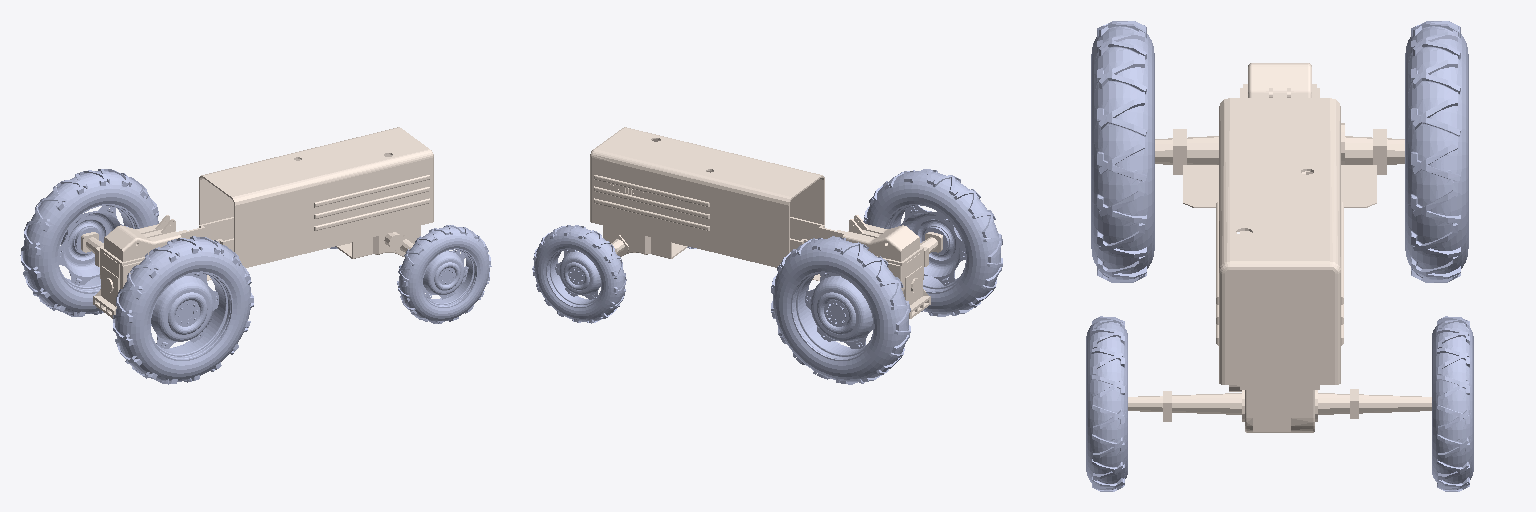
URDF robot description (tractor):
<?xml version="1.0" encoding="utf-8"?>
<!-- This URDF was automatically created by SolidWorks to URDF Exporter! Originally created by [author] ([email redacted]) 
     Commit Version: 1.6.0-4-g7f85cfe  Build Version: 1.6.7995.38578
     For more information, please see http://wiki.ros.org/sw_urdf_exporter -->
<robot
  name="tractor">
  <link
    name="base_link">
    <inertial>
      <origin
        xyz="-0.275503262308017 0.1134168249371 0.00114102748997771"
        rpy="0 0 0" />
      <mass
        value="3290" />
      <inertia
        ixx="1181.50205313415"
        ixy="62.8690140923481"
        ixz="-8.30908405189068"
        iyy="4421.07152572309"
        iyz="-0.511875110335584"
        izz="3804.07165064492" />
    </inertial>
    <visual>
      <origin
        xyz="0 0 0"
        rpy="0 0 0" />
      <geometry>
        <mesh
          filename="package://tractor/meshes/base_link.STL" />
      </geometry>
      <material
        name="">
        <color
          rgba="1 0.949019607843137 0.909803921568627 1" />
      </material>
    </visual>
    <collision>
      <origin
        xyz="0 0 0"
        rpy="0 0 0" />
      <geometry>
        <mesh
          filename="package://tractor/meshes/base_link.STL" />
      </geometry>
    </collision>
  </link>
  <link
    name="FRONT_L">
    <inertial>
      <origin
        xyz="-0.275503262308017 0.1134168249371 0.00114102748997771"
        rpy="0 0 0" />
      <mass
        value="3290" />
      <inertia
        ixx="1181.50205313415"
        ixy="62.8690140923481"
        ixz="-8.30908405189068"
        iyy="4421.07152572309"
        iyz="-0.511875110335584"
        izz="3804.07165064492" />
    </inertial>
    <visual>
      <origin
        xyz="0 0 0"
        rpy="0 0 0" />
      <geometry>
        <mesh
          filename="package://tractor/meshes/FRONT_L.STL" />
      </geometry>
      <material
        name="">
        <color
          rgba="0.792156862745098 0.819607843137255 0.933333333333333 1" />
      </material>
    </visual>
    <collision>
      <origin
        xyz="0 0 0"
        rpy="0 0 0" />
      <geometry>
        <mesh
          filename="package://tractor/meshes/FRONT_L.STL" />
      </geometry>
    </collision>
  </link>
  <joint
    name="Front1"
    type="continuous">
    <origin
      xyz="1.6143 0.81922 -0.13999"
      rpy="-1.5708 0 0" />
    <parent
      link="base_link" />
    <child
      link="FRONT_L" />
    <axis
      xyz="0 0 -1" />
    <limit
      lower="-3.14"
      upper="3.14"
      effort="10"
      velocity="1" />
  </joint>
  <link
    name="FRONT_R">
    <inertial>
      <origin
        xyz="-0.275503262308017 0.1134168249371 0.00114102748997771"
        rpy="0 0 0" />
      <mass
        value="3290" />
      <inertia
        ixx="1181.50205313415"
        ixy="62.8690140923481"
        ixz="-8.30908405189068"
        iyy="4421.07152572309"
        iyz="-0.511875110335584"
        izz="3804.07165064492" />
    </inertial>
    <visual>
      <origin
        xyz="0 0 0"
        rpy="0 0 0" />
      <geometry>
        <mesh
          filename="package://tractor/meshes/FRONT_R.STL" />
      </geometry>
      <material
        name="">
        <color
          rgba="0.792156862745098 0.819607843137255 0.933333333333333 1" />
      </material>
    </visual>
    <collision>
      <origin
        xyz="0 0 0"
        rpy="0 0 0" />
      <geometry>
        <mesh
          filename="package://tractor/meshes/FRONT_R.STL" />
      </geometry>
    </collision>
  </link>
  <joint
    name="Front2"
    type="continuous">
    <origin
      xyz="1.6143 -0.81922 -0.13999"
      rpy="-1.5708 0 0" />
    <parent
      link="base_link" />
    <child
      link="FRONT_R" />
    <axis
      xyz="0 0 1" />
    <limit
      lower="-3.14"
      upper="3.14"
      effort="0"
      velocity="1" />
  </joint>
  <link
    name="REAR_L">
    <inertial>
      <origin
        xyz="-0.275503262308017 0.1134168249371 0.00114102748997771"
        rpy="0 0 0" />
      <mass
        value="3290" />
      <inertia
        ixx="1181.50205313415"
        ixy="62.8690140923481"
        ixz="-8.30908405189068"
        iyy="4421.07152572309"
        iyz="-0.511875110335584"
        izz="3804.07165064492" />
    </inertial>
    <visual>
      <origin
        xyz="0 0 0"
        rpy="0 0 0" />
      <geometry>
        <mesh
          filename="package://tractor/meshes/REAR_L.STL" />
      </geometry>
      <material
        name="">
        <color
          rgba="0.792156862745098 0.819607843137255 0.933333333333333 1" />
      </material>
    </visual>
    <collision>
      <origin
        xyz="0 0 0"
        rpy="0 0 0" />
      <geometry>
        <mesh
          filename="package://tractor/meshes/REAR_L.STL" />
      </geometry>
    </collision>
  </link>
  <joint
    name="Rear1"
    type="continuous">
    <origin
      xyz="-0.65 0.77 0.055"
      rpy="-1.5708 0 0" />
    <parent
      link="base_link" />
    <child
      link="REAR_L" />
    <axis
      xyz="0 0 -1" />
    <limit
      lower="-3.14"
      upper="3.14"
      effort="10"
      velocity="1" />
  </joint>
  <link
    name="REAR_R">
    <inertial>
      <origin
        xyz="-0.275503262308017 0.1134168249371 0.00114102748997771"
        rpy="0 0 0" />
      <mass
        value="3290" />
      <inertia
        ixx="1181.50205313415"
        ixy="62.8690140923481"
        ixz="-8.30908405189068"
        iyy="4421.07152572309"
        iyz="-0.511875110335584"
        izz="3804.07165064492" />
    </inertial>
    <visual>
      <origin
        xyz="0 0 0"
        rpy="0 0 0" />
      <geometry>
        <mesh
          filename="package://tractor/meshes/REAR_R.STL" />
      </geometry>
      <material
        name="">
        <color
          rgba="0.792156862745098 0.819607843137255 0.933333333333333 1" />
      </material>
    </visual>
    <collision>
      <origin
        xyz="0 0 0"
        rpy="0 0 0" />
      <geometry>
        <mesh
          filename="package://tractor/meshes/REAR_R.STL" />
      </geometry>
    </collision>
  </link>
  <joint
    name="Rear2"
    type="continuous">
    <origin
      xyz="-0.65 -0.77 0.055"
      rpy="-1.5708 0 0" />
    <parent
      link="base_link" />
    <child
      link="REAR_R" />
    <axis
      xyz="0 0 1" />
    <limit
      lower="-3.14"
      upper="3.14"
      effort="10"
      velocity="1" />
  </joint>

    <!-- Transmissions -->
  <transmission name="Rear1_trans">
    <type>transmission_interface/SimpleTransmission</type>
    <actuator name="Rear1_motor">
      <hardwareInterface>EffortJointInterface</hardwareInterface>
    </actuator>
    <joint name="Rear1">
      <hardwareInterface>EffortJointInterface</hardwareInterface>
    </joint>
  </transmission>

  <transmission name="Rear2_trans">
    <type>transmission_interface/SimpleTransmission</type>
    <actuator name="Rear2_motor">
      <hardwareInterface>EffortJointInterface</hardwareInterface>
    </actuator>
    <joint name="Rear2">
      <hardwareInterface>EffortJointInterface</hardwareInterface>
    </joint>
  </transmission>

  <gazebo>
    <plugin name="gazebo_ros_control" filename="libgazebo_ros_control.so"/>
  </gazebo>
  
</robot>

--- Render facts (derived) ---
The picture shows the robot from 3 angles, left to right: view 1: azimuth 30°, elevation 25°; view 2: azimuth 150°, elevation 25°; view 3: azimuth 270°, elevation 25°; orthographic projection.
Model tractor with 5 links and 4 joints (4 continuous), rooted at base_link, posed all joints at 0.
Links seen in each view (by area): view 1: base_link, REAR_R, REAR_L, FRONT_R; view 2: base_link, REAR_L, REAR_R, FRONT_L; view 3: base_link, REAR_R, REAR_L, FRONT_R, FRONT_L.
Link boxes in pixels (x1,y1,x2,y2): base_link: (81,127,433,318); REAR_R: (113,236,253,384); REAR_L: (20,169,158,316); FRONT_R: (397,225,491,323); base_link: (590,127,942,318); REAR_L: (771,236,910,384); REAR_R: (863,169,1002,316); FRONT_L: (532,225,626,323); base_link: (1128,63,1431,432); REAR_R: (1091,21,1154,282); REAR_L: (1405,21,1468,282); FRONT_R: (1086,316,1127,491); FRONT_L: (1432,316,1473,491).
Size in the robot's own frame: 3.25 by 1.74 by 1.19 metres.
5 mesh visuals loaded from 5 distinct referenced files (5 binary STL).
